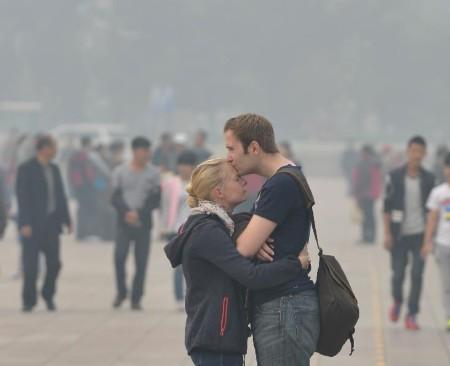person: (162, 155, 319, 366), (222, 111, 314, 366), (13, 134, 74, 312), (381, 134, 436, 331), (109, 135, 161, 310), (159, 150, 202, 310), (419, 151, 450, 338), (349, 141, 382, 247)
